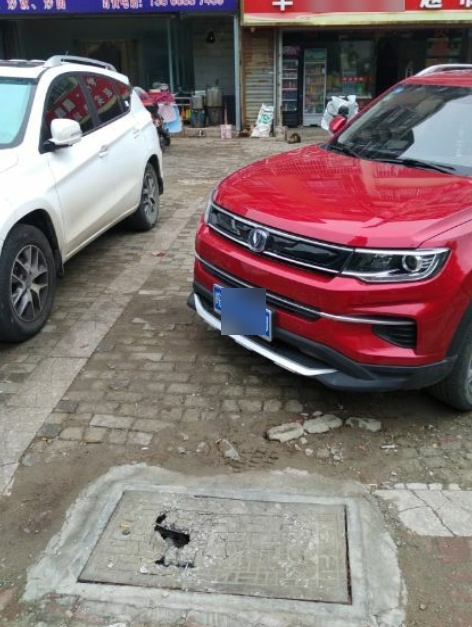broke: (66, 482, 366, 619)
